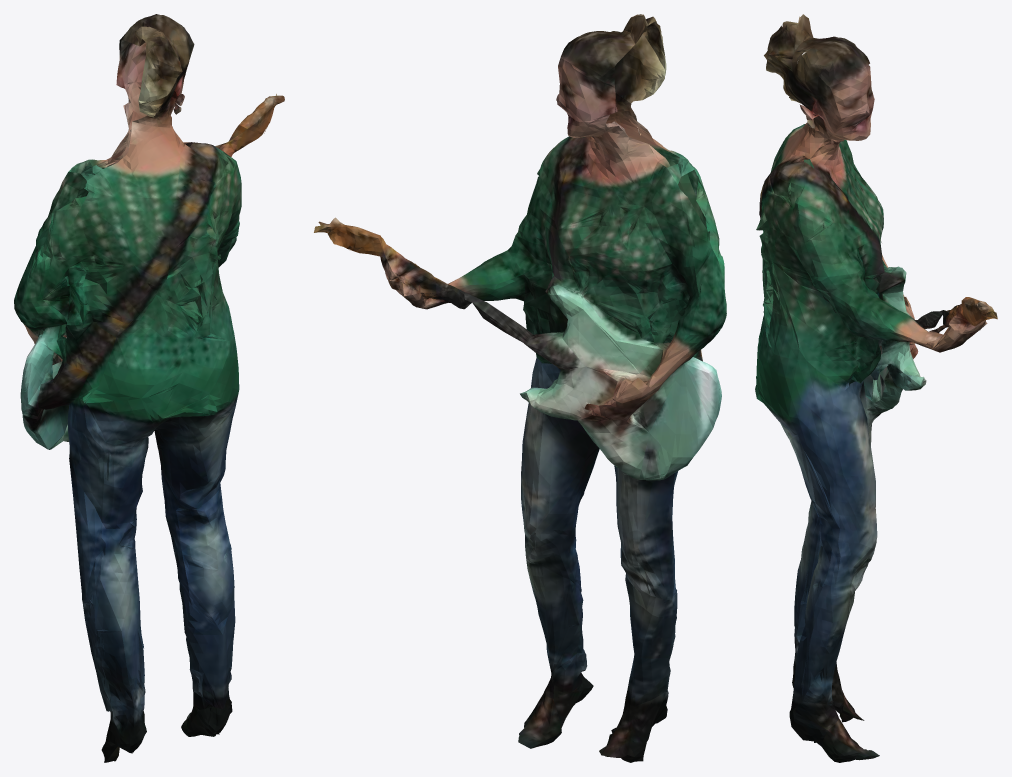
3 views of the same model, side by side, from view 1: azimuth 30°, elevation 25°; view 2: azimuth 150°, elevation 25°; view 3: azimuth 270°, elevation 25° (orthographic). The views are drawn at different scales.
Parts seen in each view (by area): view 1: dec_0019; view 2: dec_0019; view 3: dec_0019.
Boxes of the visible parts, x1=… form: dec_0019: x1=14, y1=14, x2=284, y2=762; dec_0019: x1=314, y1=14, x2=726, y2=762; dec_0019: x1=755, y1=14, x2=997, y2=762.
Bounding box in the file's own units: 0.8283 × 1.74 × 0.5393.
1 material, 1 textured.
